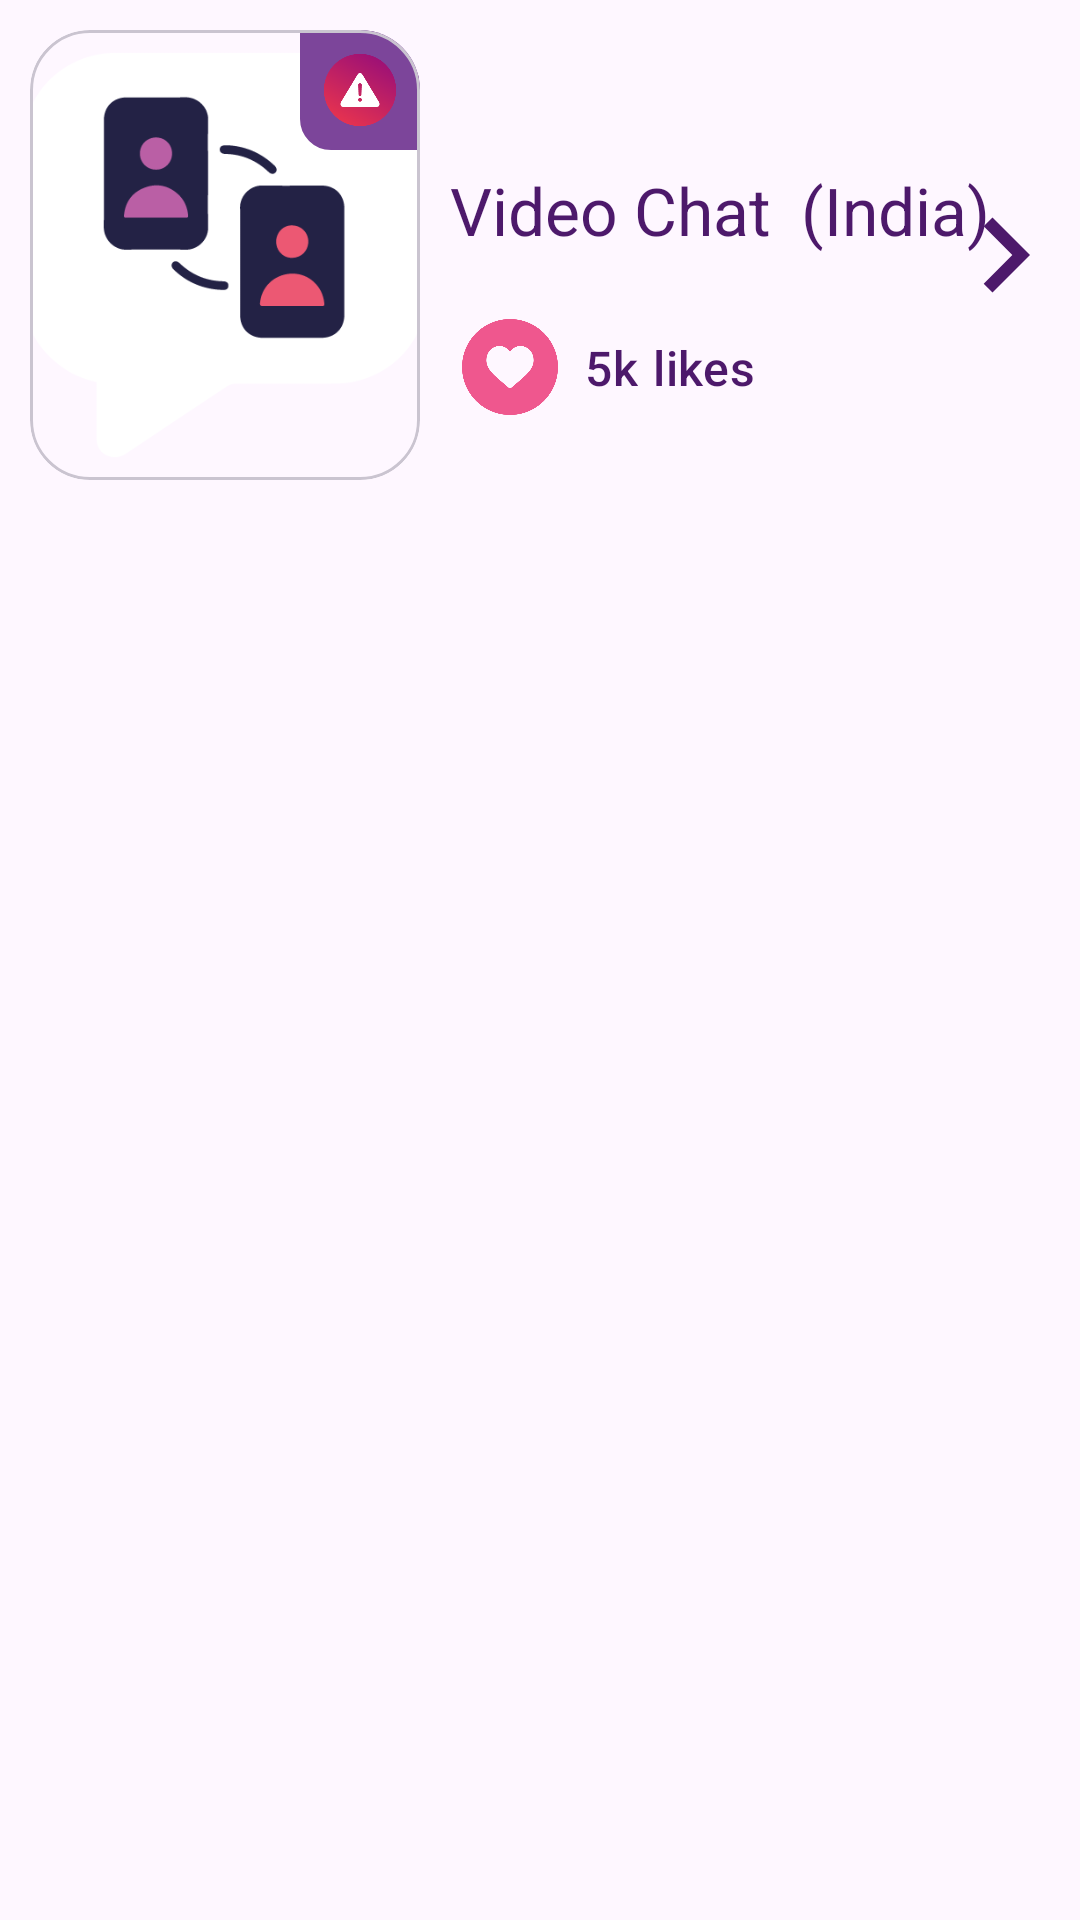

Where to tap for icons on this 1080×1920 app screen, as [x,y]:
report: [360,90]
